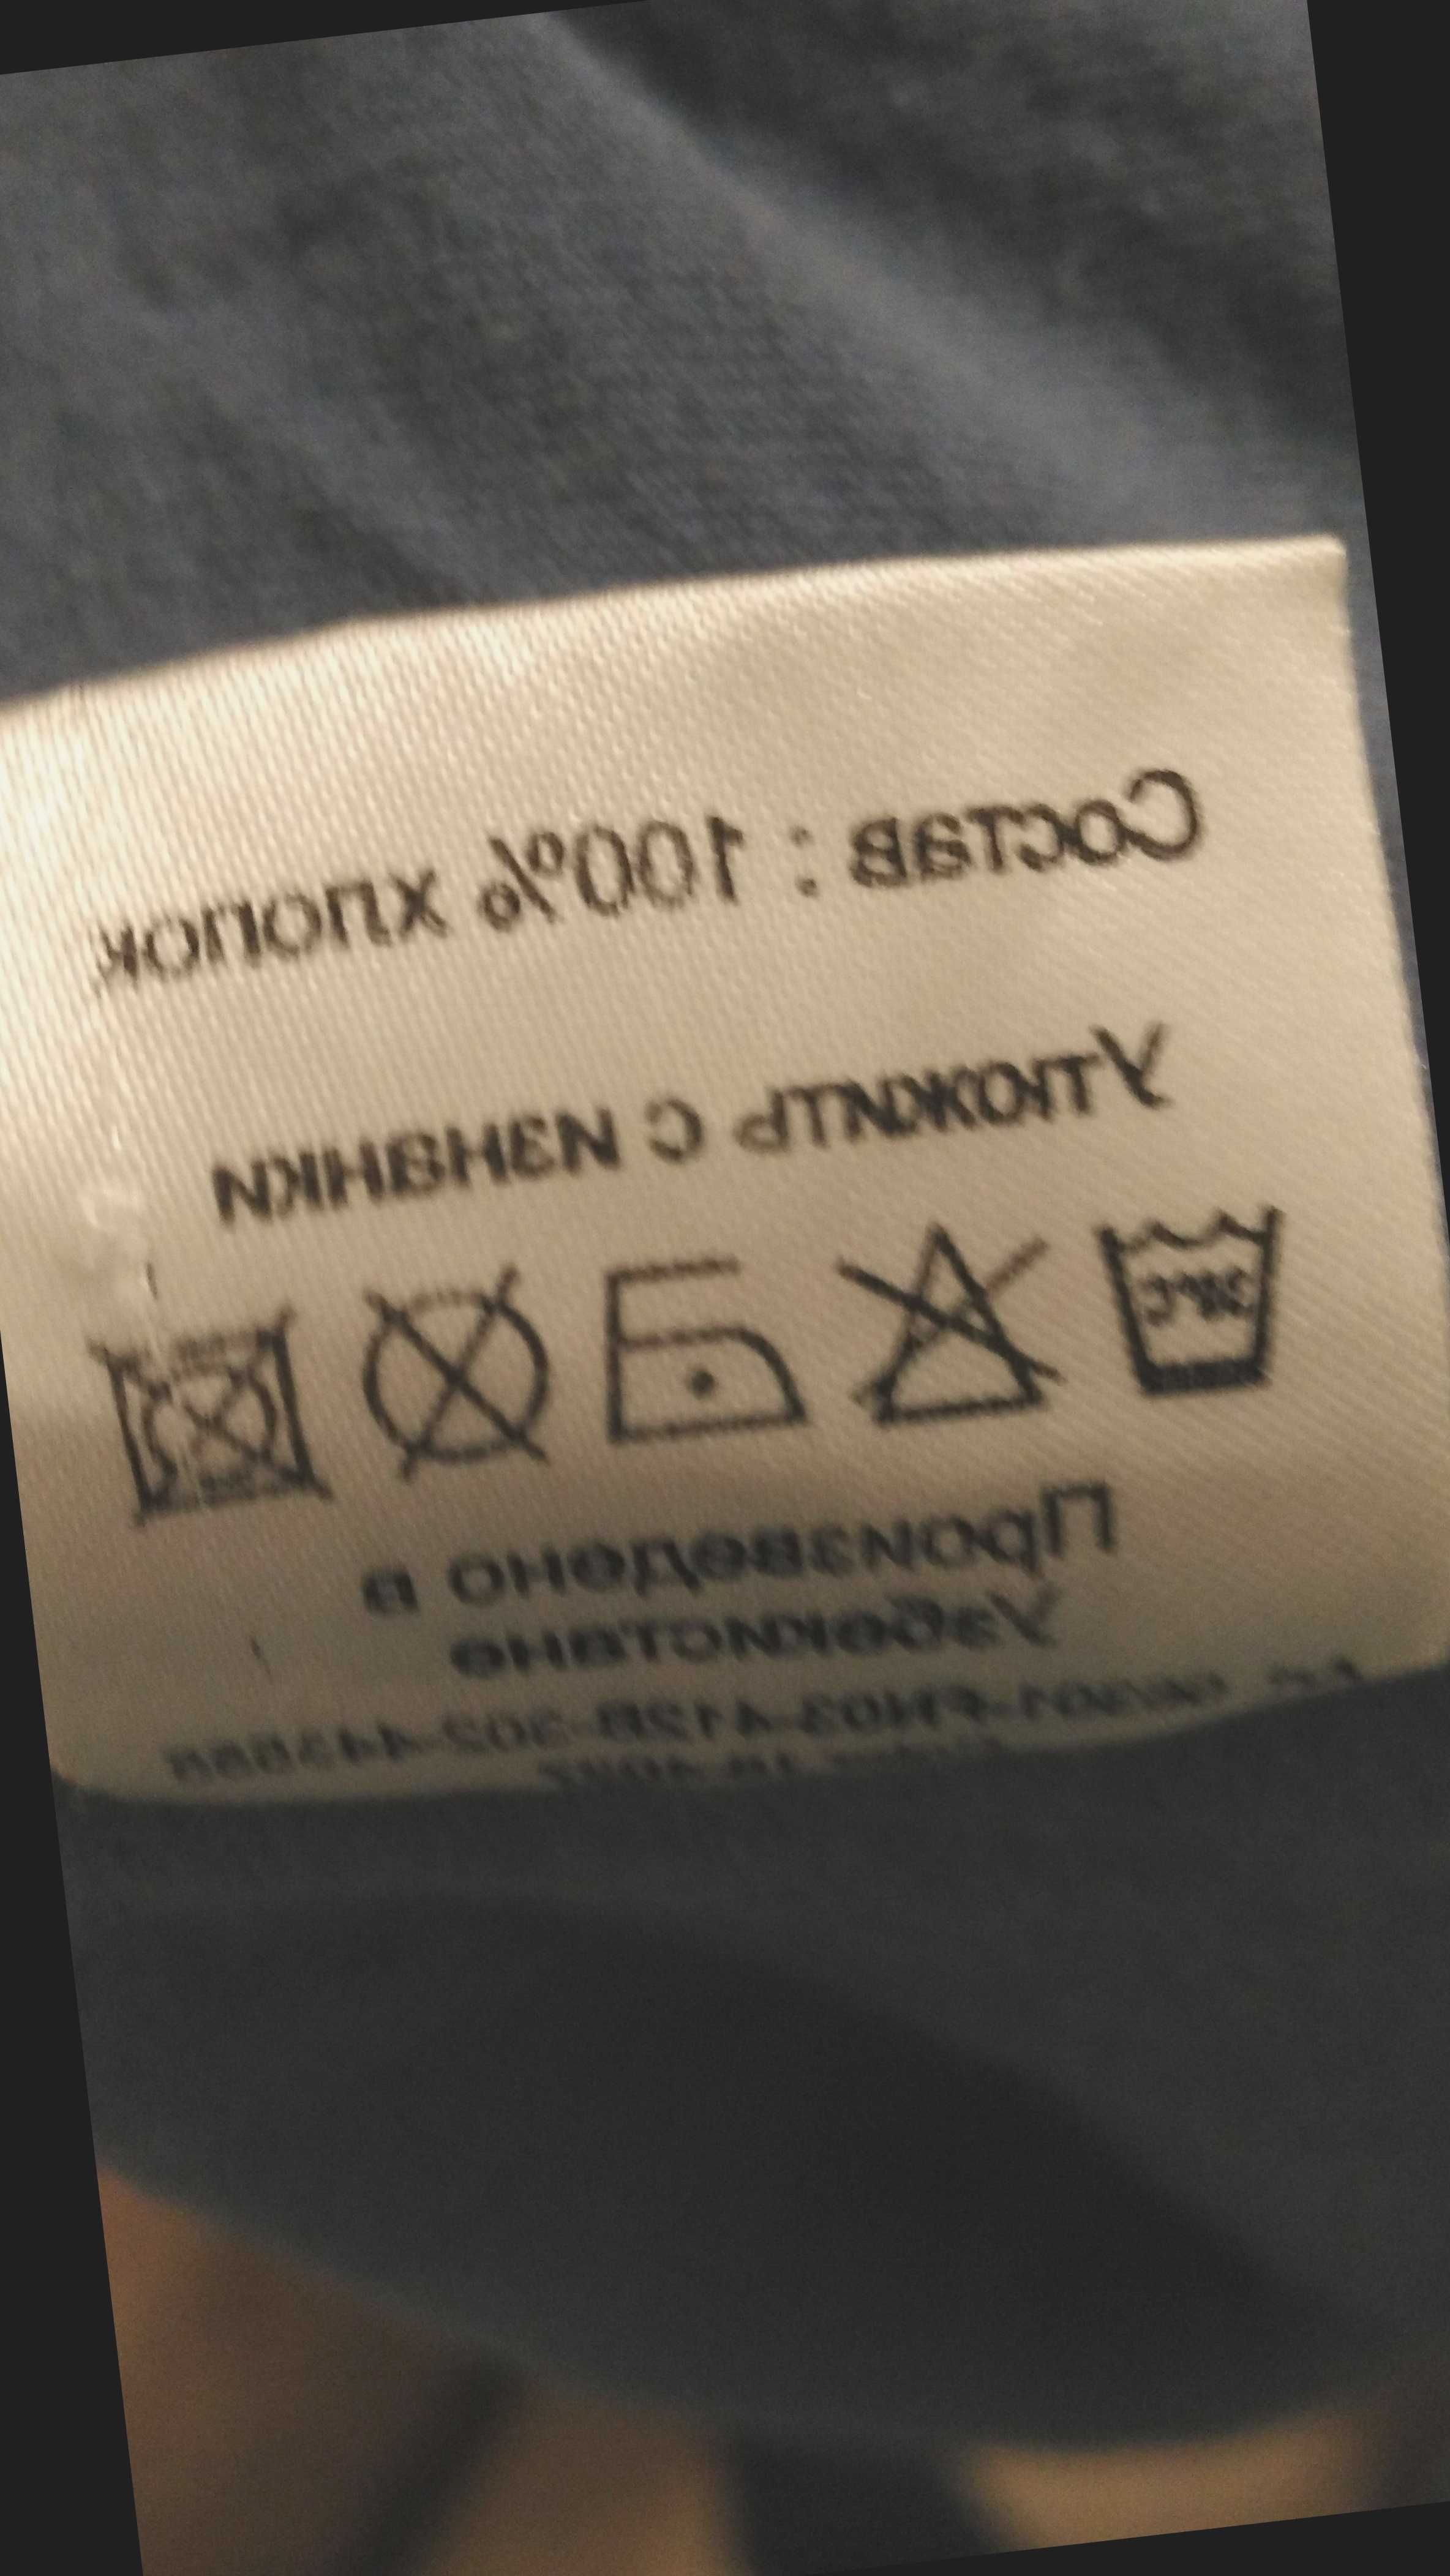30C: (1053, 1182, 1326, 1426)
DN_bleach: (802, 1203, 1076, 1447)
DN_dry_clean: (328, 1260, 574, 1488)
DN_tumble_dry: (62, 1288, 331, 1543)
iron_low: (565, 1233, 804, 1477)
